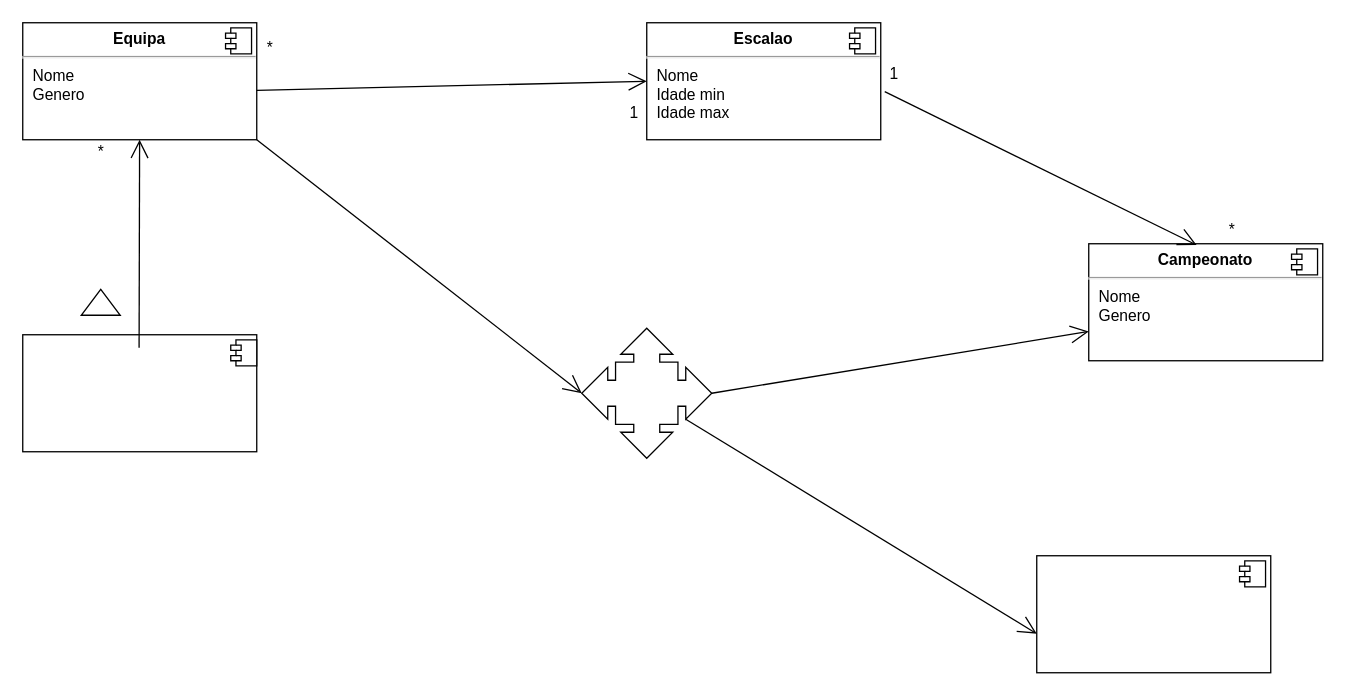
The diagram is 1346 pixels wide and 696 high, and some of its shapes have lost their labels. Each missing label, with the box of its shape:
Clube Nome Morada Ano fundado: (21, 333, 257, 452)
Epoca Ano: (1035, 554, 1271, 673)
